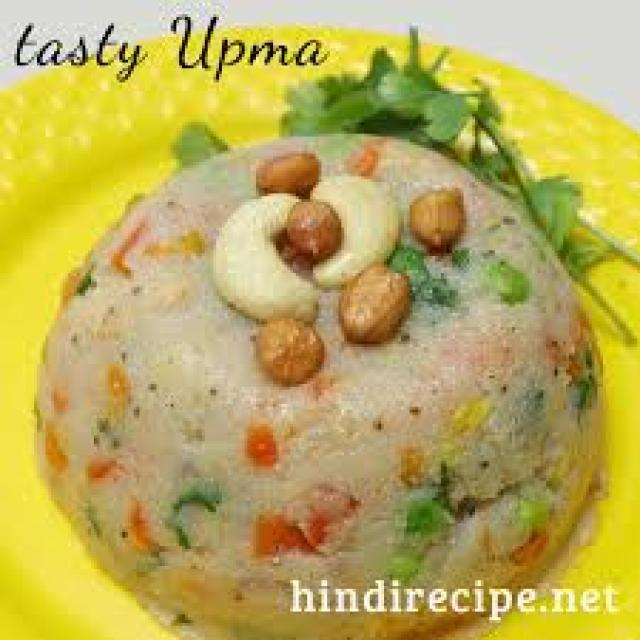Wet Waste: (28, 124, 606, 640)
